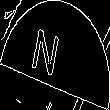N_S: (38, 25, 72, 85)
